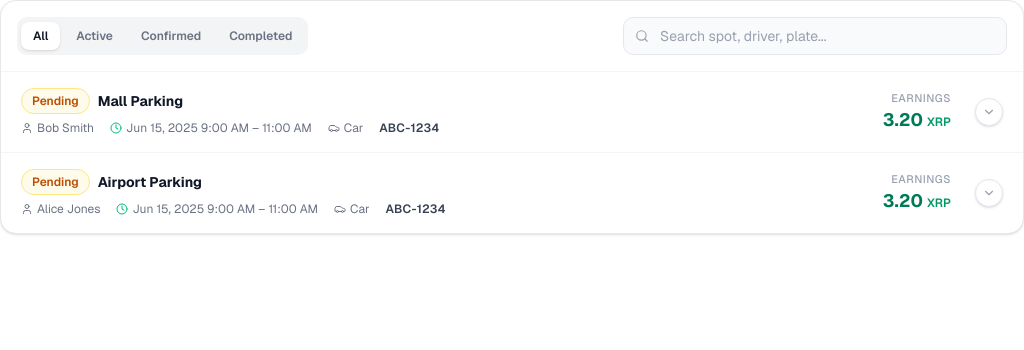
Test: BookingList Component › Integration - Full Flow › search then expand booking
In the field with placeholder "Search spot, driver, plate...": x=815, y=36 top-left (623, 17), bottom-right (1007, 55), type "Bob"
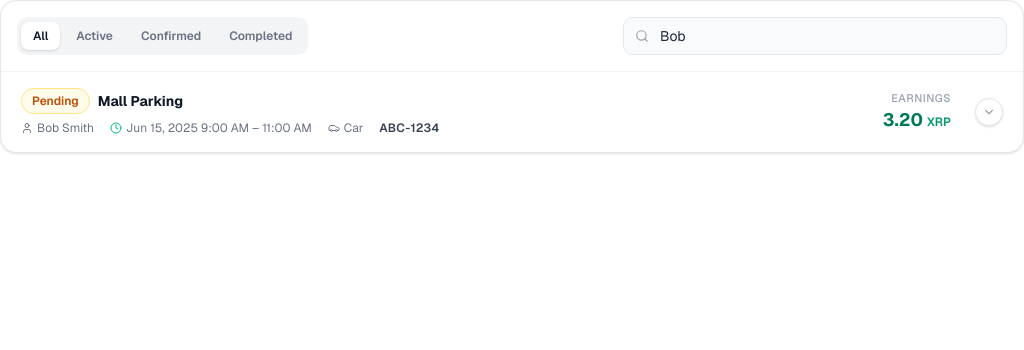
Now the heading "Airport Parking" is gone
Expand Bob's booking
Click the heading "Mall Parking": x=140, y=101 top-left (98, 91), bottom-right (183, 111)
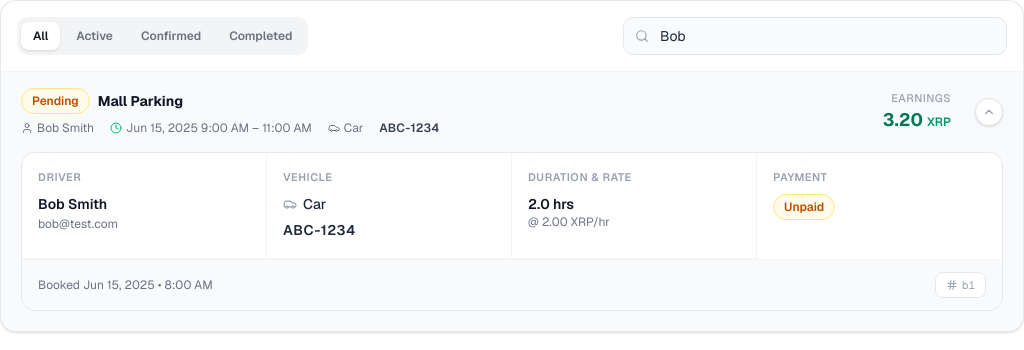
Now the text "bob@test.com" is shown, box top-left (38, 216), bottom-right (118, 232)
